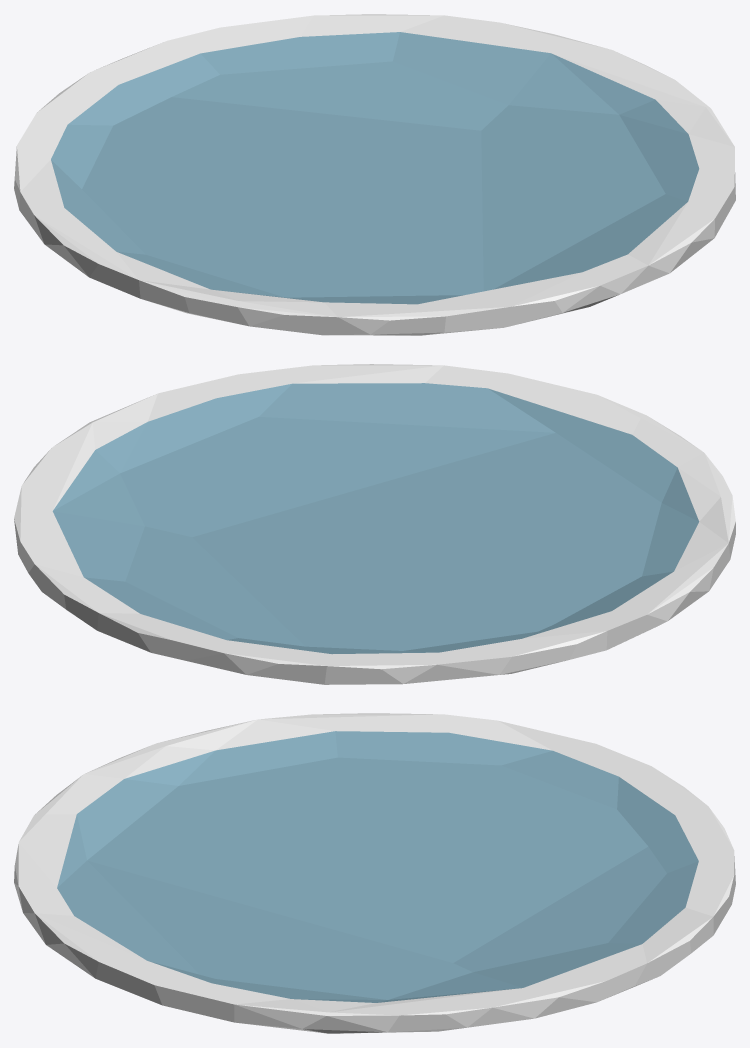
File: PlateBig03White.fbx
3 views of the same model, one above another, from view 1: azimuth 30°, elevation 25°; view 2: azimuth 150°, elevation 25°; view 3: azimuth 270°, elevation 25° (orthographic).
Visible parts, largest first — view 1: PlateBig03LowPolyWhite; view 2: PlateBig03LowPolyWhite; view 3: PlateBig03LowPolyWhite.
Part boxes in pixels (bbox=[...]): PlateBig03LowPolyWhite: bbox=[14, 14, 735, 335]; PlateBig03LowPolyWhite: bbox=[14, 364, 735, 684]; PlateBig03LowPolyWhite: bbox=[14, 713, 735, 1033].
Bounding box in the file's own units: 28.95 × 2.45 × 28.92.
